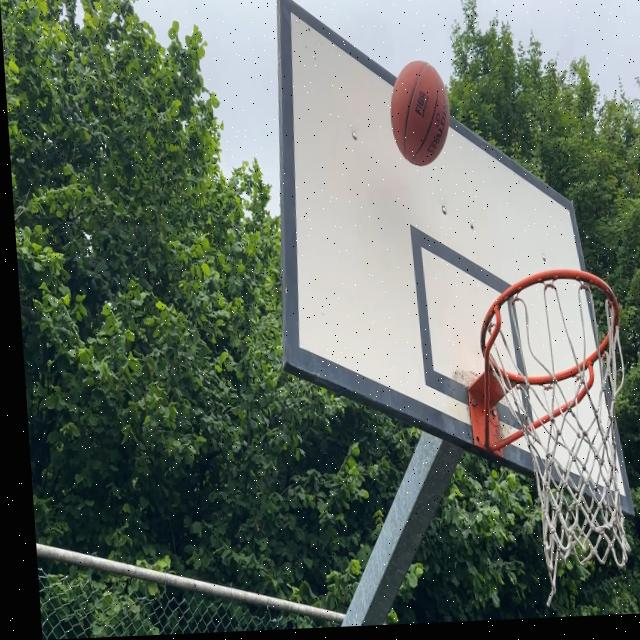Basketball: (386, 61, 451, 170)
